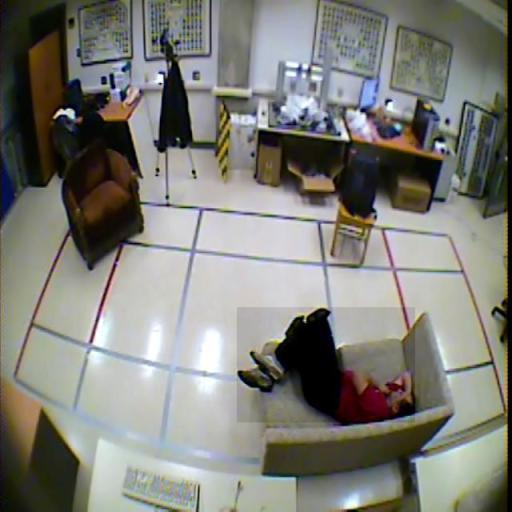Fall: (237, 308, 415, 423)
